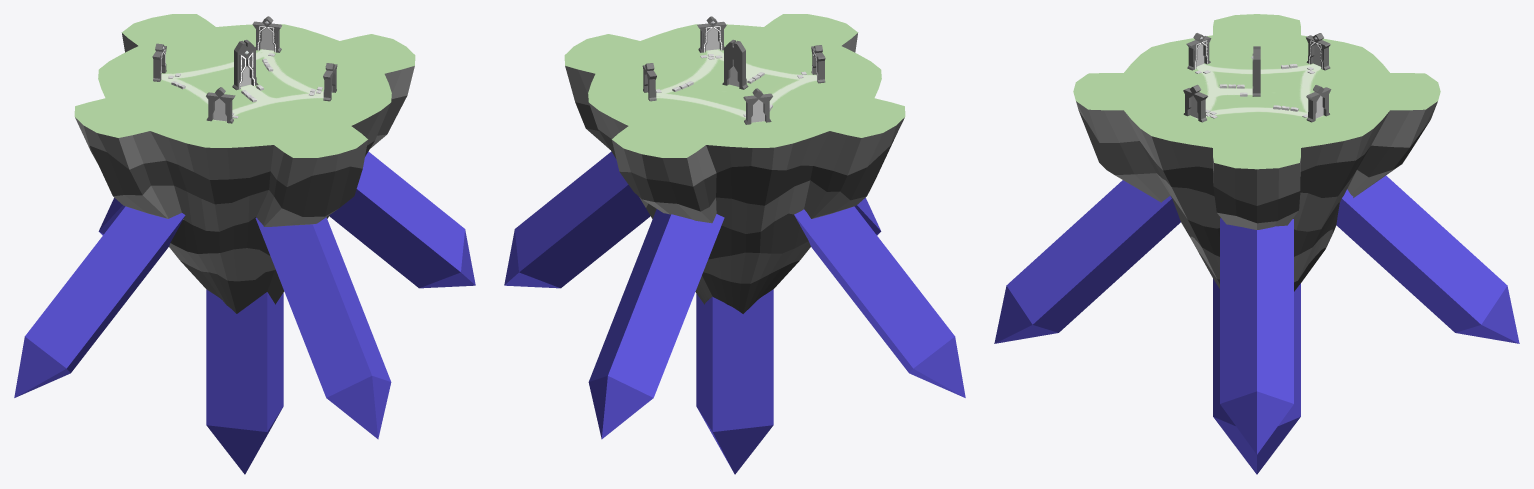
File: island4.fbx
The picture shows the model from 3 angles, left to right: view 1: azimuth 30°, elevation 25°; view 2: azimuth 150°, elevation 25°; view 3: azimuth 270°, elevation 25°; orthographic projection.
Visible parts, largest first — view 1: island4_crystals, island4_grass_road, island4_rocks, island4_mage_portal, island4_fire_portal, island4_deactivated_portal1; view 2: island4_crystals, island4_grass_road, island4_rocks, island4_mage_portal, island4_air_portal, island4_deactivated_portal2; view 3: island4_crystals, island4_grass_road, island4_rocks, island4_fire_portal, island4_deactivated_portal1, island4_deactivated_portal2, island4_air_portal.
Boxes of the visible parts, x1,y1,x2,y2 form: island4_crystals: (14,151,475,474); island4_grass_road: (74,14,415,157); island4_rocks: (75,33,414,313); island4_mage_portal: (232,39,258,90); island4_fire_portal: (206,87,235,123); island4_deactivated_portal1: (252,16,282,52); island4_crystals: (504,151,965,474); island4_grass_road: (564,14,905,157); island4_rocks: (565,33,904,313); island4_mage_portal: (722,39,748,89); island4_air_portal: (743,88,772,124); island4_deactivated_portal2: (697,16,726,52); island4_crystals: (994,175,1519,474); island4_grass_road: (1073,14,1440,169); island4_rocks: (1076,101,1437,291); island4_fire_portal: (1186,33,1211,70); island4_deactivated_portal1: (1306,85,1331,122); island4_deactivated_portal2: (1183,84,1207,122); island4_air_portal: (1305,33,1330,70).
Size of what is drawn, in the model's own units: 6538 by 5862 by 6538.
